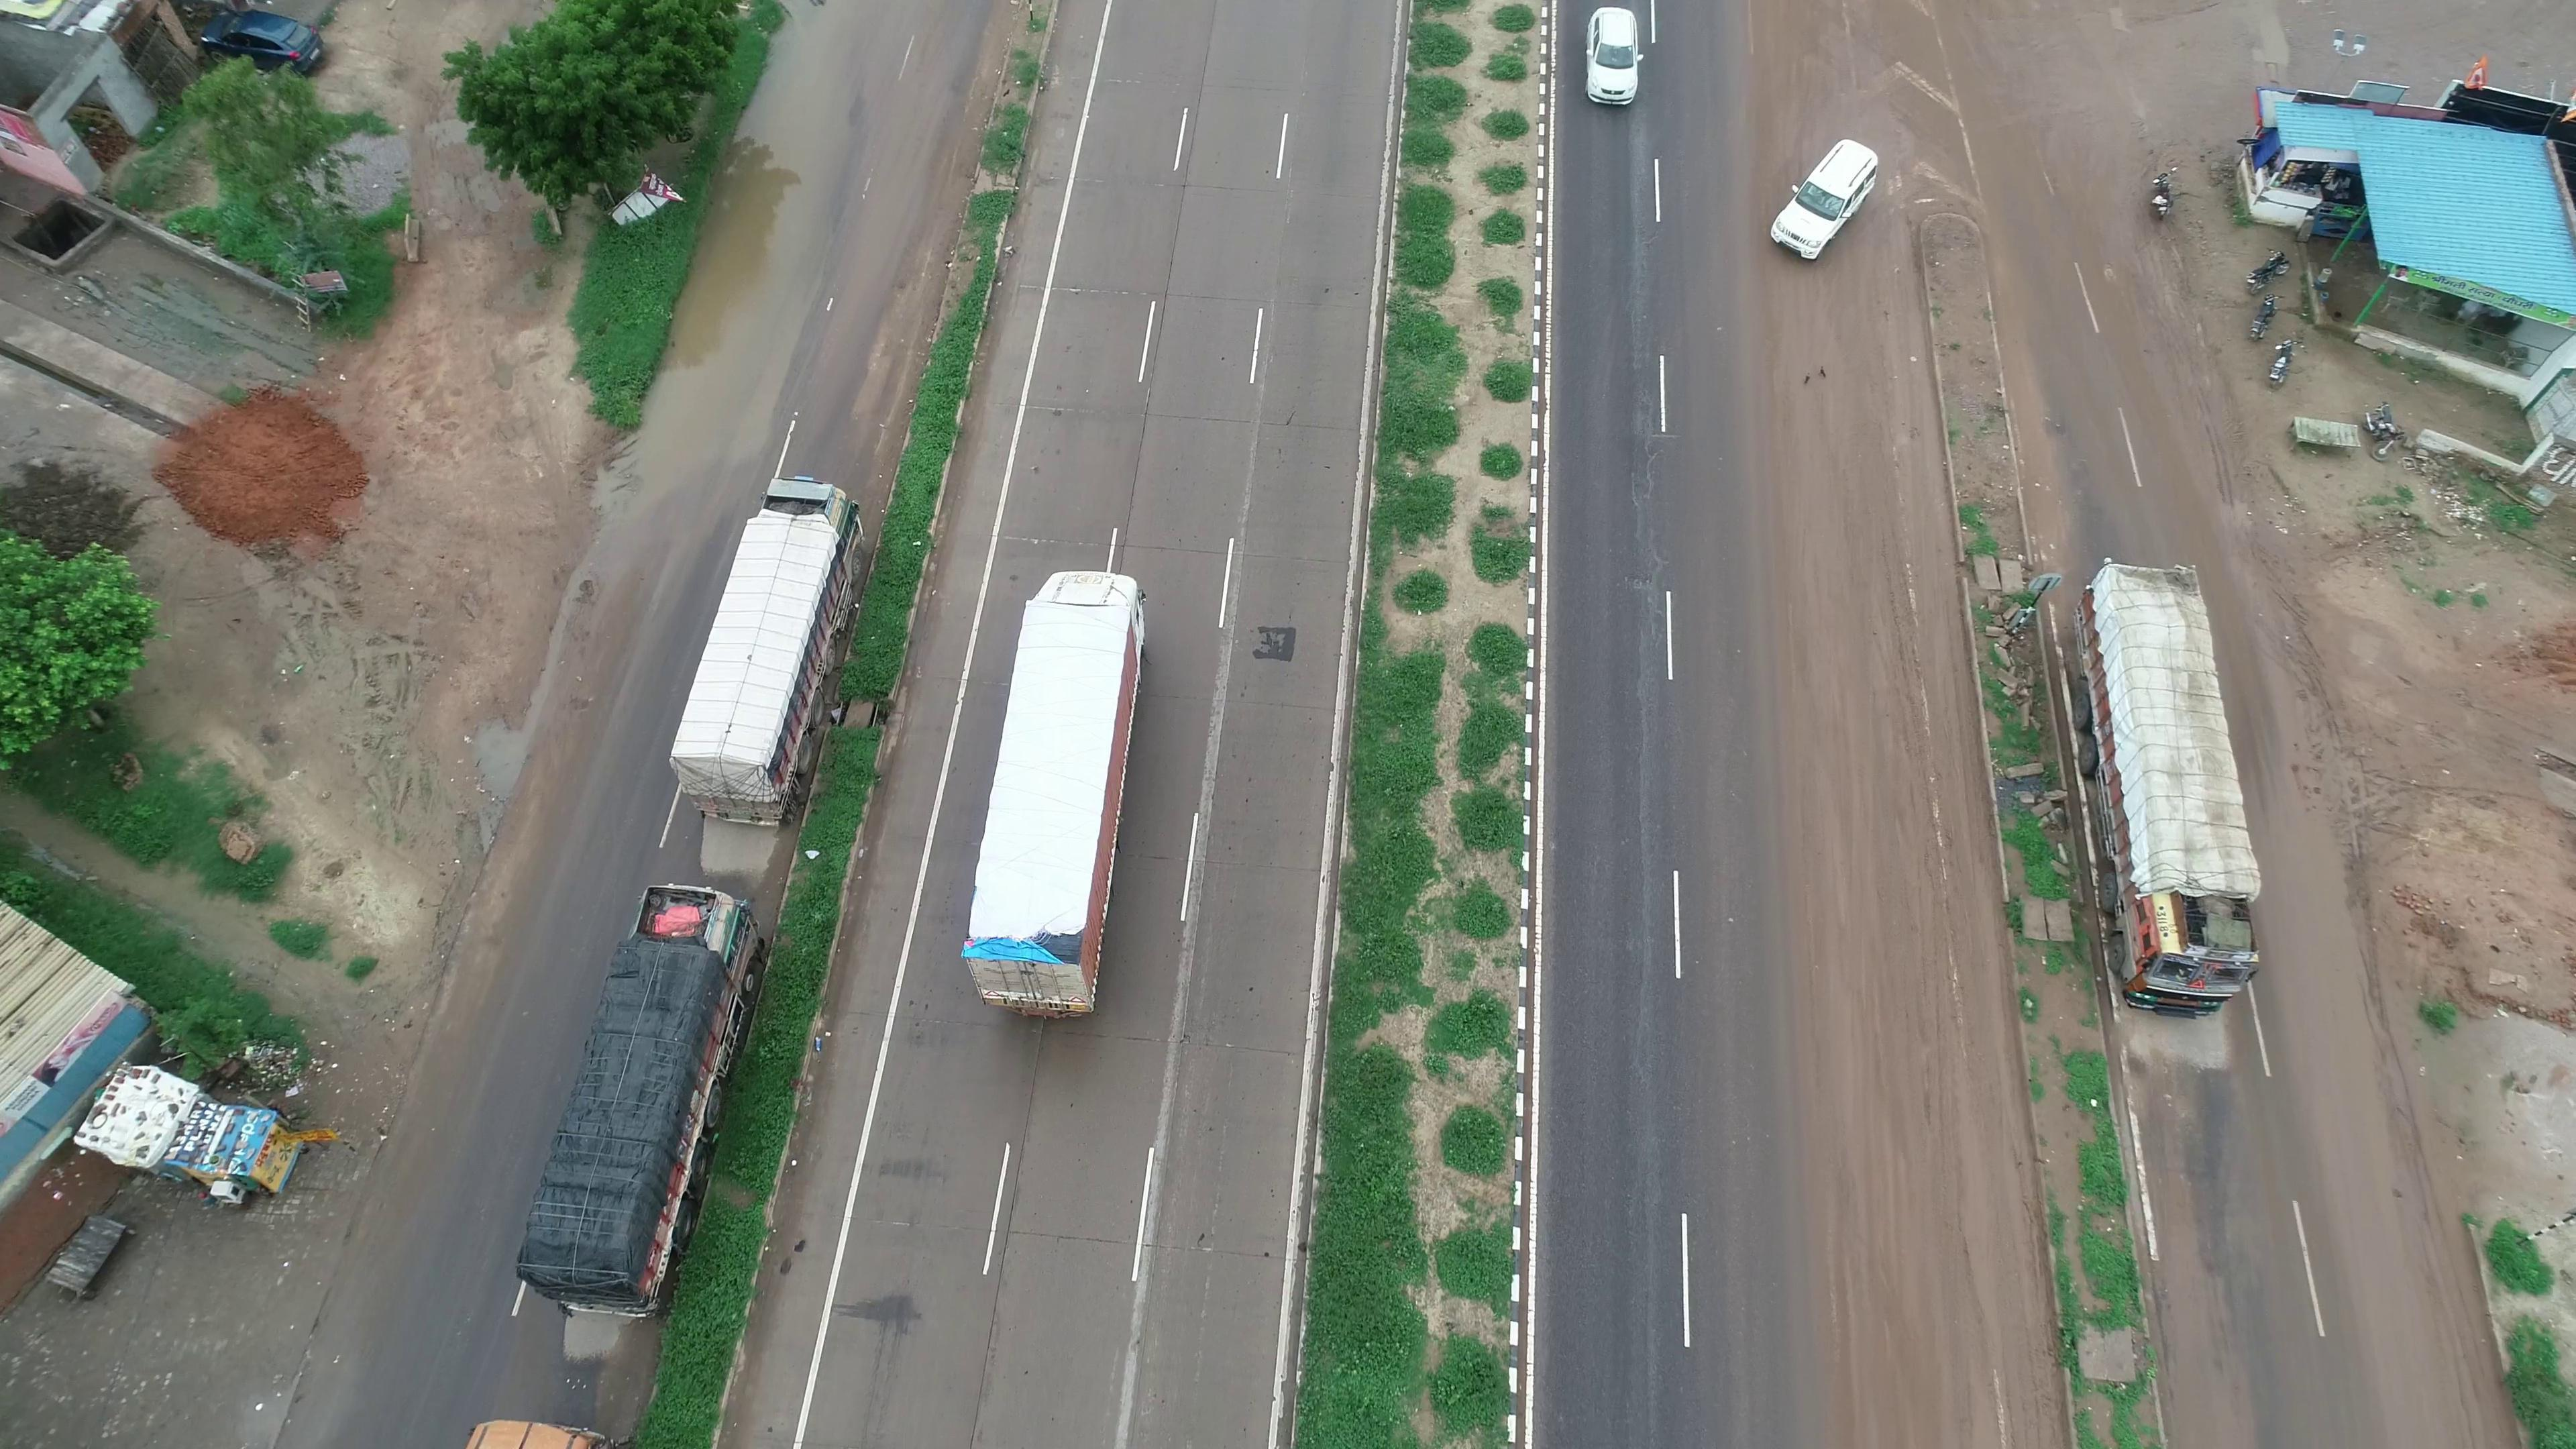Muddy_road: (1787, 947, 2072, 1449), (1748, 538, 2001, 934), (1744, 255, 1946, 545)
